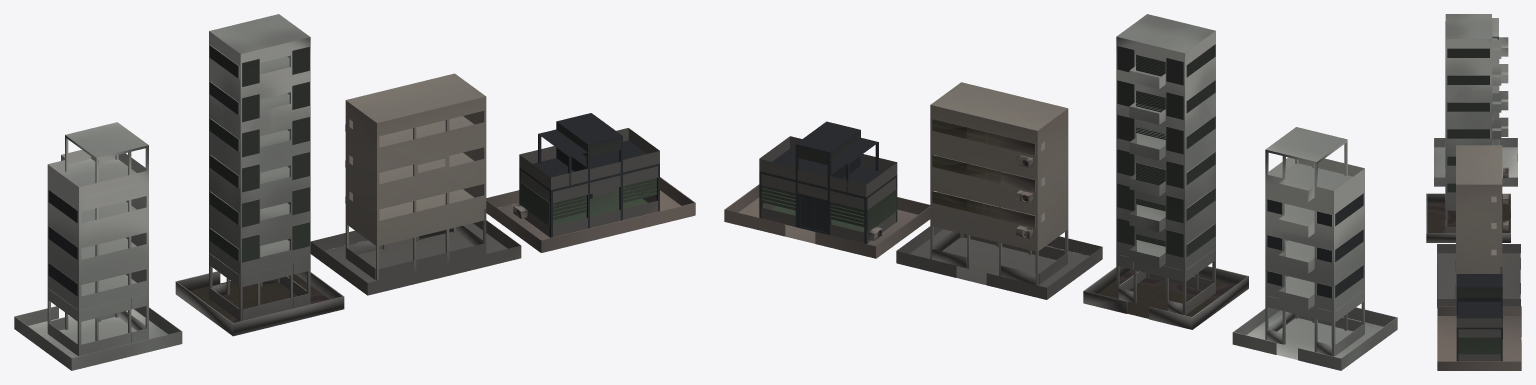
File: BASE BUILDINGS.fbx
The picture shows the model from 3 angles, left to right: view 1: azimuth 30°, elevation 25°; view 2: azimuth 150°, elevation 25°; view 3: azimuth 270°, elevation 25°; orthographic projection. The views are drawn at different scales.
Parts seen in each view (by area): view 1: BUILDING 2, BUILDING 3, BUILDING 1, BUILDING 4; view 2: BUILDING 2, BUILDING 3, BUILDING 1, BUILDING 4; view 3: BUILDING 2, BUILDING 3, BUILDING 4, BUILDING 1.
Boxes of the visible parts, x1,y1,x2,y2 form: BUILDING 2: (175, 14, 344, 336); BUILDING 3: (310, 73, 521, 295); BUILDING 1: (14, 122, 182, 370); BUILDING 4: (486, 113, 695, 252); BUILDING 2: (1083, 14, 1248, 329); BUILDING 3: (896, 82, 1102, 299); BUILDING 1: (1232, 127, 1397, 370); BUILDING 4: (724, 121, 930, 258); BUILDING 2: (1426, 14, 1510, 242); BUILDING 3: (1437, 145, 1520, 307); BUILDING 4: (1437, 274, 1521, 370); BUILDING 1: (1434, 18, 1517, 186).
Size of the model in its own units: 5735 by 2362 by 1026.
1 material, 1 textured.
